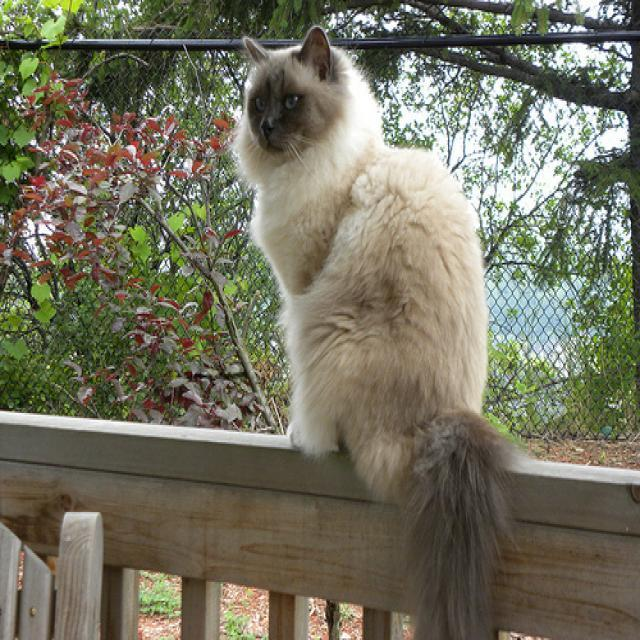Birman: (242, 22, 331, 154)
